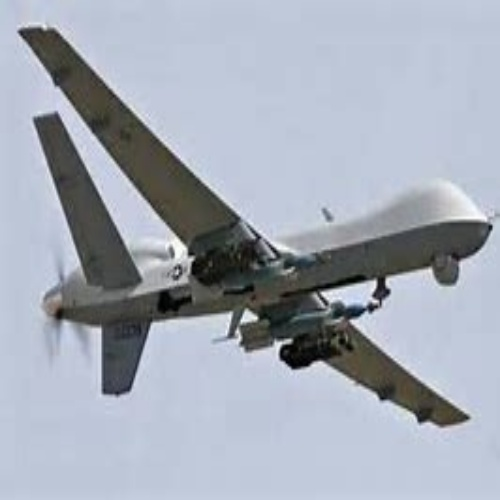uav: (10, 21, 492, 431)
